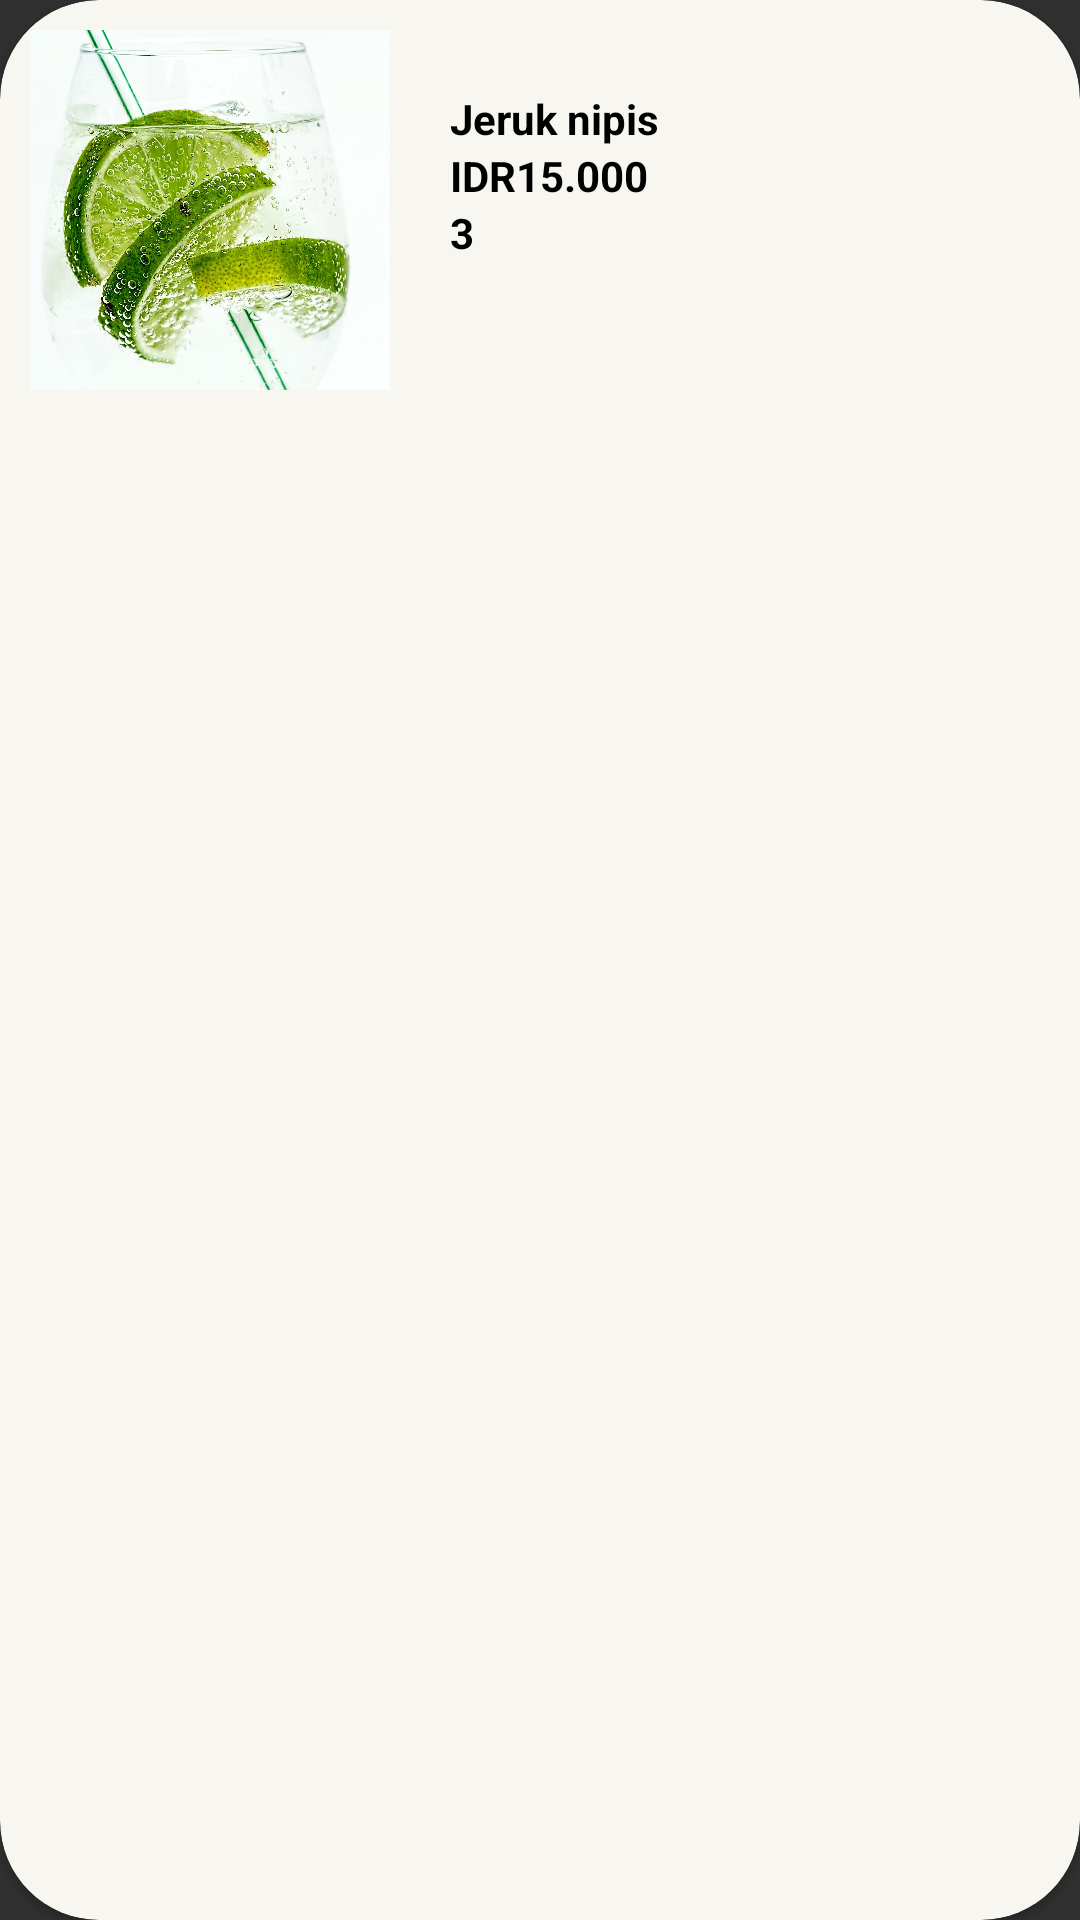

Icon bounding boxes for this 1080px x 1920px phone screenshot, format (x1, y1, x2, y2):
minuman: (30, 30, 390, 390)
